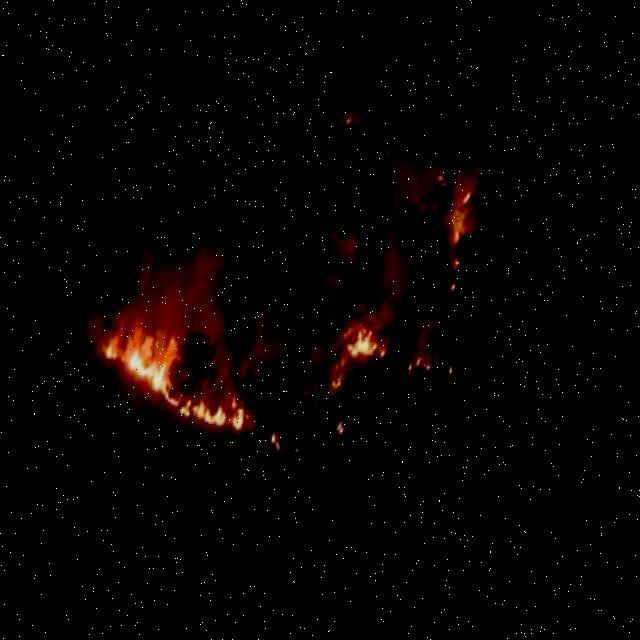Fire: (102, 314, 286, 446), (349, 317, 409, 365)
